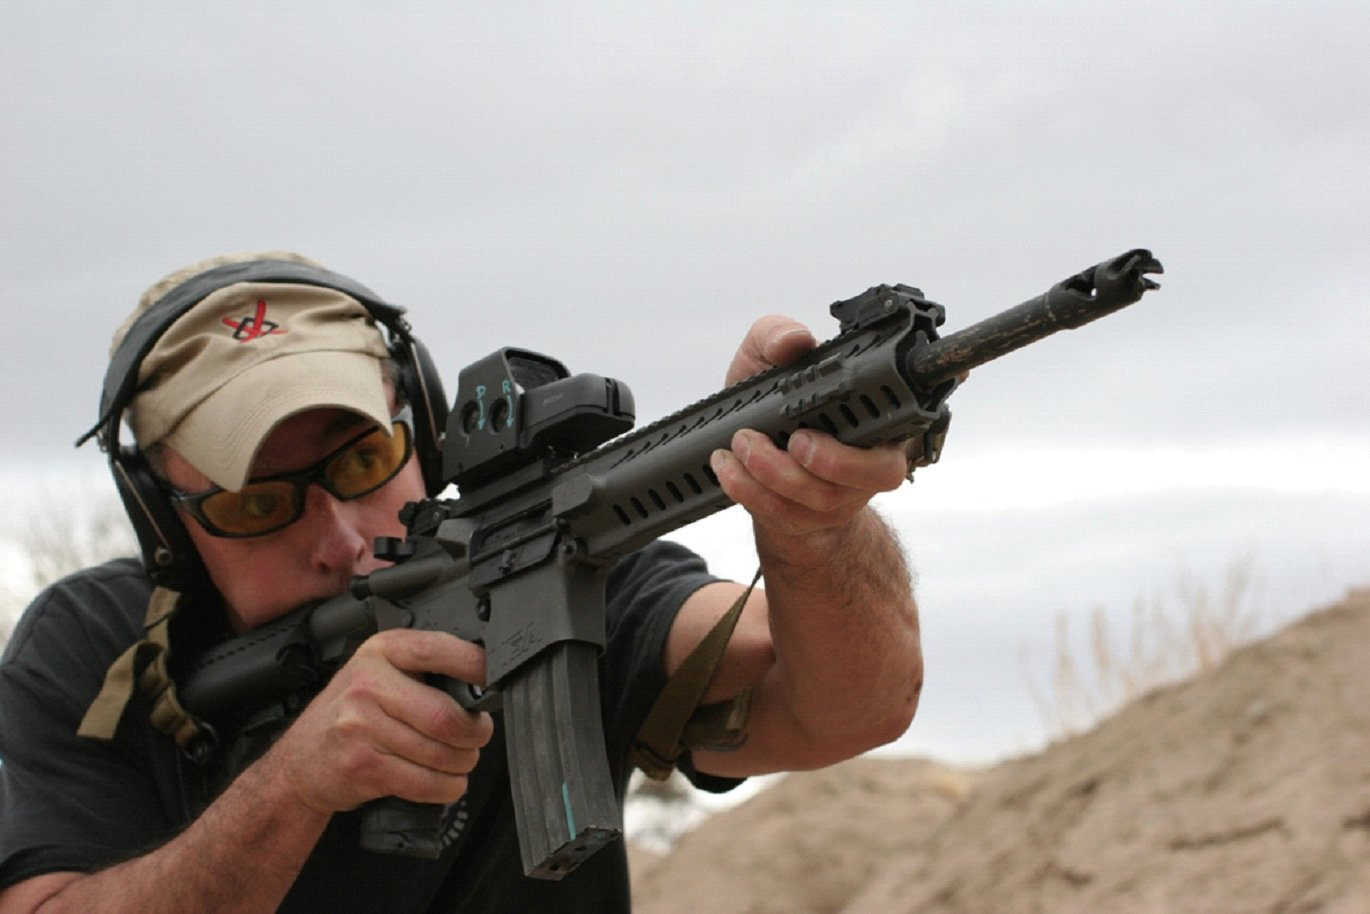Rifle: (152, 243, 1179, 886)
